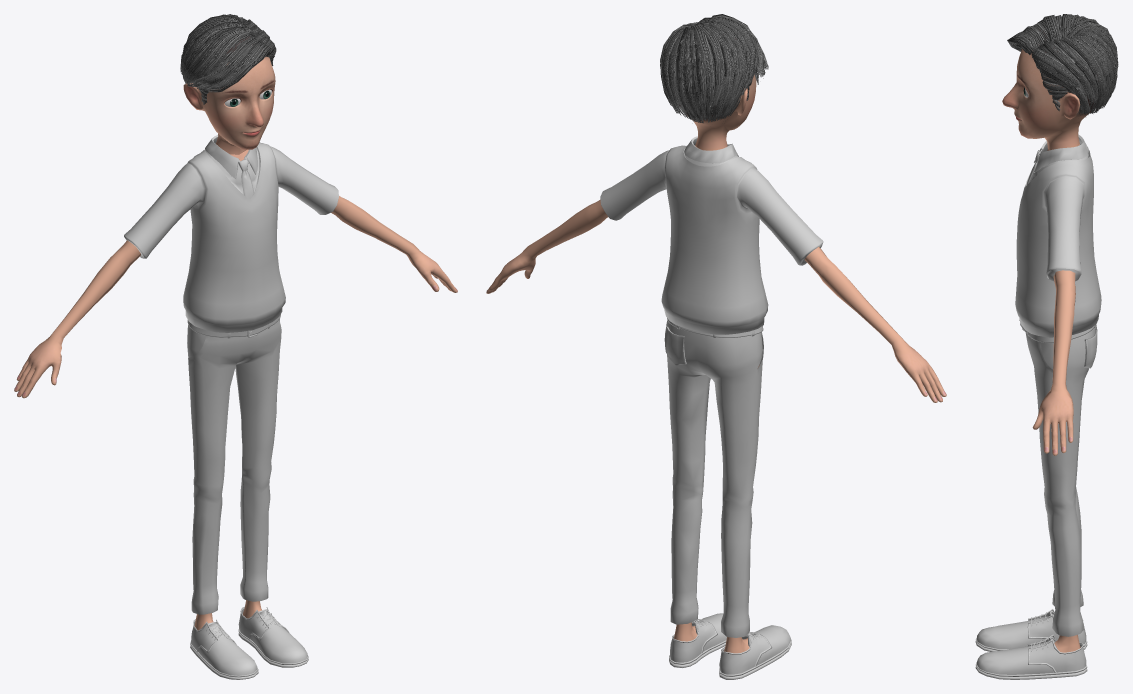
The model's file is father3.fbx.
The picture shows the model from 3 angles, left to right: view 1: azimuth 30°, elevation 25°; view 2: azimuth 150°, elevation 25°; view 3: azimuth 270°, elevation 25°; orthographic projection. The views are drawn at different scales.
Parts seen in each view (by area): view 1: p2Clothes, p2Body, p2Hair_L, p2Face; view 2: p2Clothes, p2Hair_L, p2Body, p2Face; view 3: p2Clothes, p2Hair_L, p2Body, p2Face.
Boxes of the visible parts, x1=… form: p2Clothes: x1=124, y1=135, x2=338, y2=679; p2Body: x1=14, y1=149, x2=457, y2=630; p2Hair_L: x1=180, y1=14, x2=276, y2=104; p2Face: x1=183, y1=37, x2=275, y2=154; p2Clothes: x1=600, y1=136, x2=823, y2=679; p2Hair_L: x1=660, y1=14, x2=768, y2=123; p2Body: x1=486, y1=145, x2=946, y2=653; p2Face: x1=679, y1=38, x2=756, y2=150; p2Clothes: x1=975, y1=134, x2=1101, y2=679; p2Hair_L: x1=1007, y1=14, x2=1118, y2=116; p2Body: x1=1032, y1=144, x2=1080, y2=652; p2Face: x1=1002, y1=30, x2=1095, y2=150.
Size of the model in its own units: 311 by 422 by 85.77.
